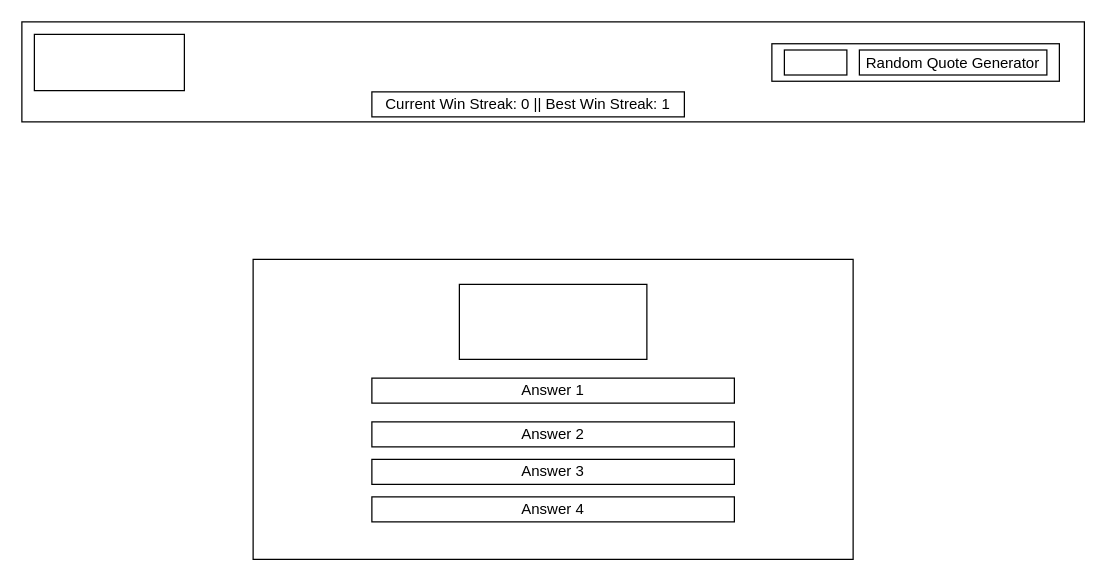
This 1106x581 diagram has some shape labels left out. The shapes that lost their labels are listed below. From the top down, each one's centre as x and y in pixels, then its label:
At point (108, 62): "Quote Me, Senpai".
At point (815, 62): "Home".
At point (552, 321): "Quote".
